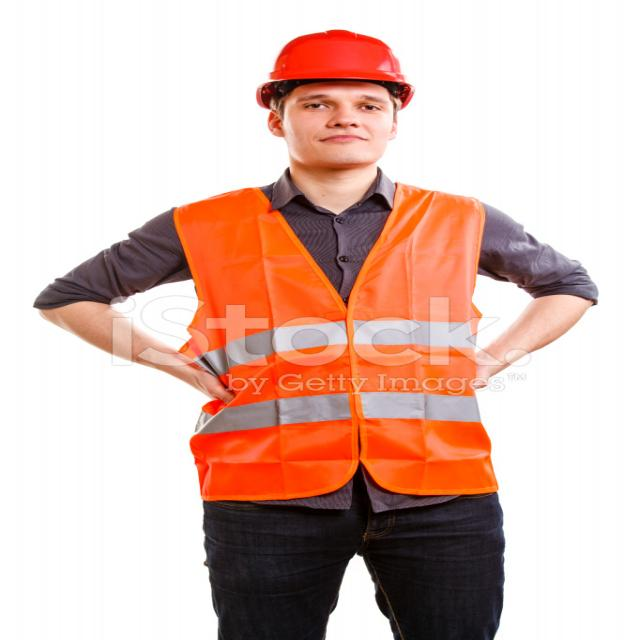Reflective-Jacket: (171, 181, 498, 502)
Safety-Helmet: (254, 26, 421, 104)
